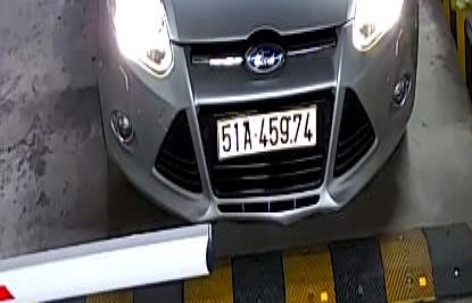plate: (211, 105, 322, 165)
